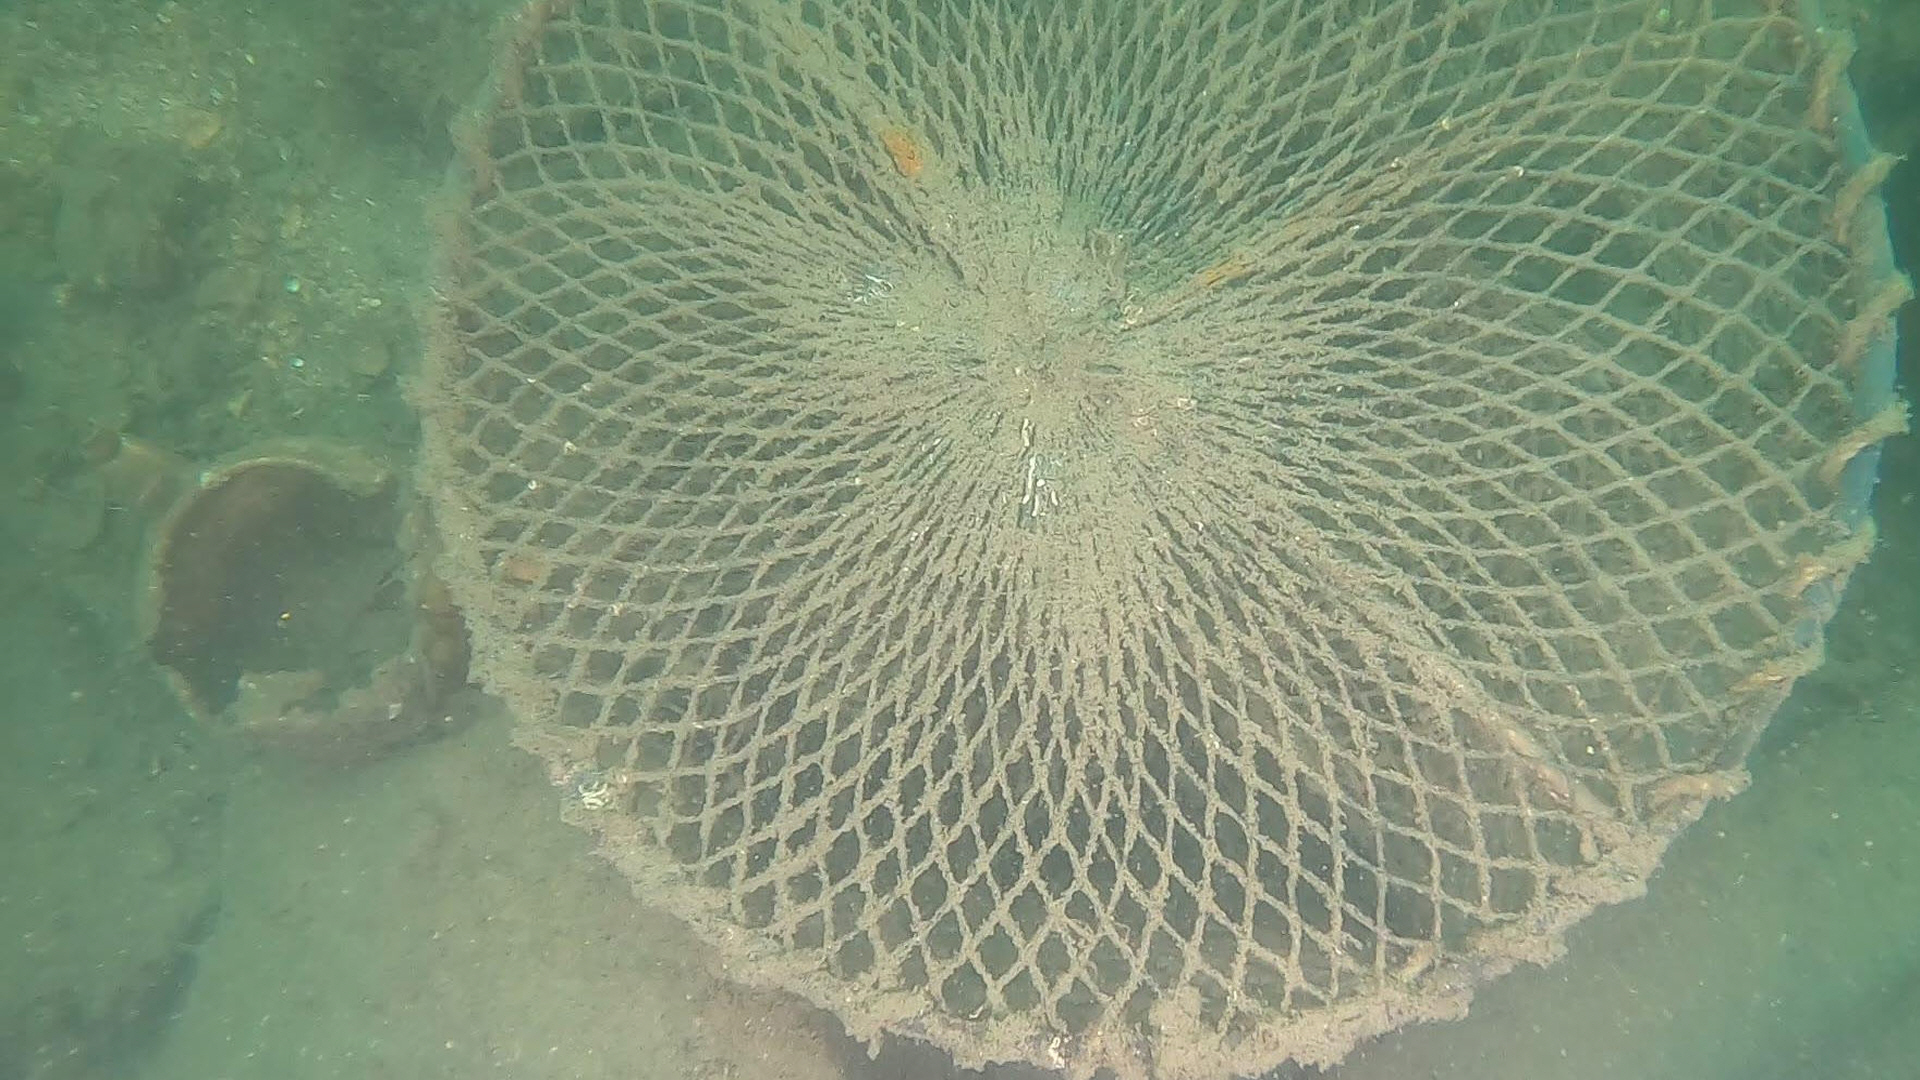circular fish trap: (406, 0, 1903, 1069)
